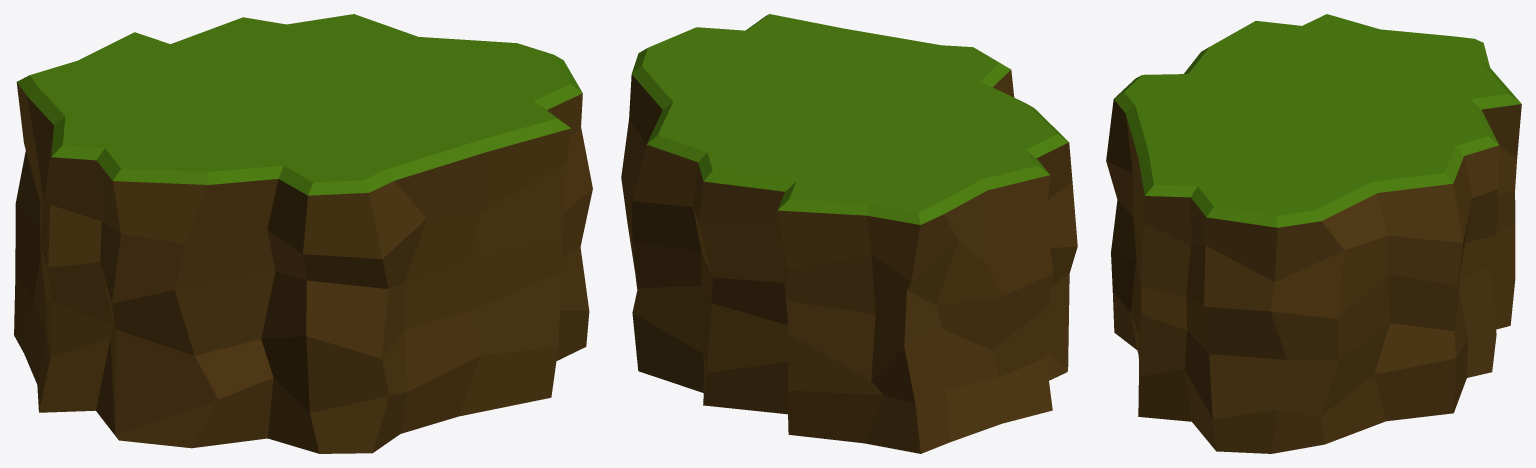
Rendered from LandExtra_1.fbx.
3 views of the same model, side by side, from view 1: azimuth 30°, elevation 25°; view 2: azimuth 150°, elevation 25°; view 3: azimuth 270°, elevation 25° (orthographic). The views are drawn at different scales.
Parts seen in each view (by area): view 1: Plane; view 2: Plane; view 3: Plane.
Boxes of the visible parts, x1,y1,x2,y2 form: Plane: [14, 14, 592, 453]; Plane: [621, 14, 1077, 453]; Plane: [1106, 14, 1521, 453].
Size of the model in its own units: 994 by 523 by 819.
